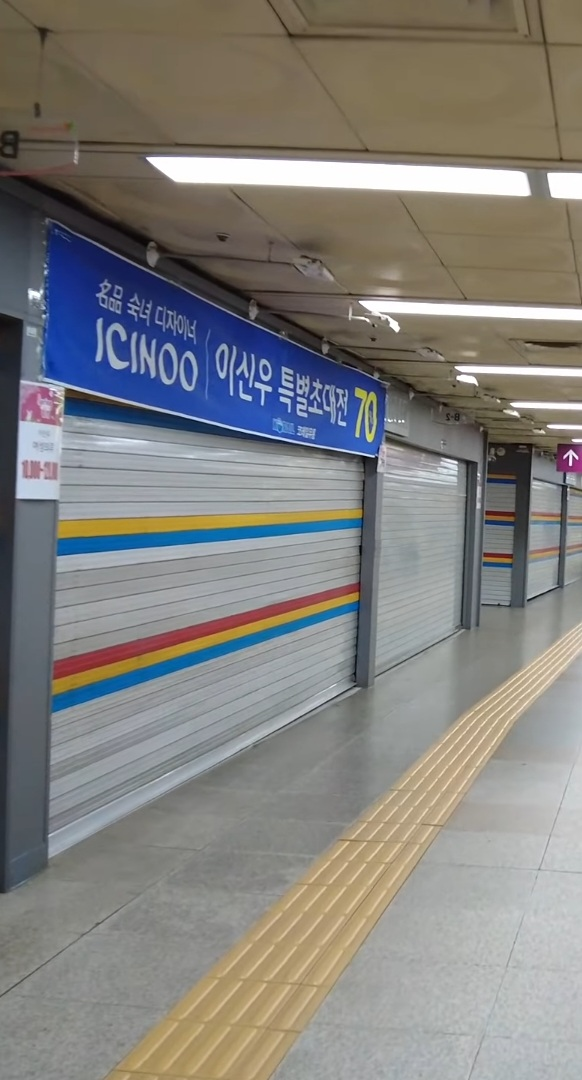guideBlock: (196, 977, 322, 1035), (164, 1022, 282, 1080), (309, 865, 388, 942), (268, 903, 358, 961), (240, 937, 332, 993), (414, 735, 494, 792), (335, 838, 406, 897), (365, 806, 426, 859), (406, 775, 472, 821), (463, 709, 517, 749)
